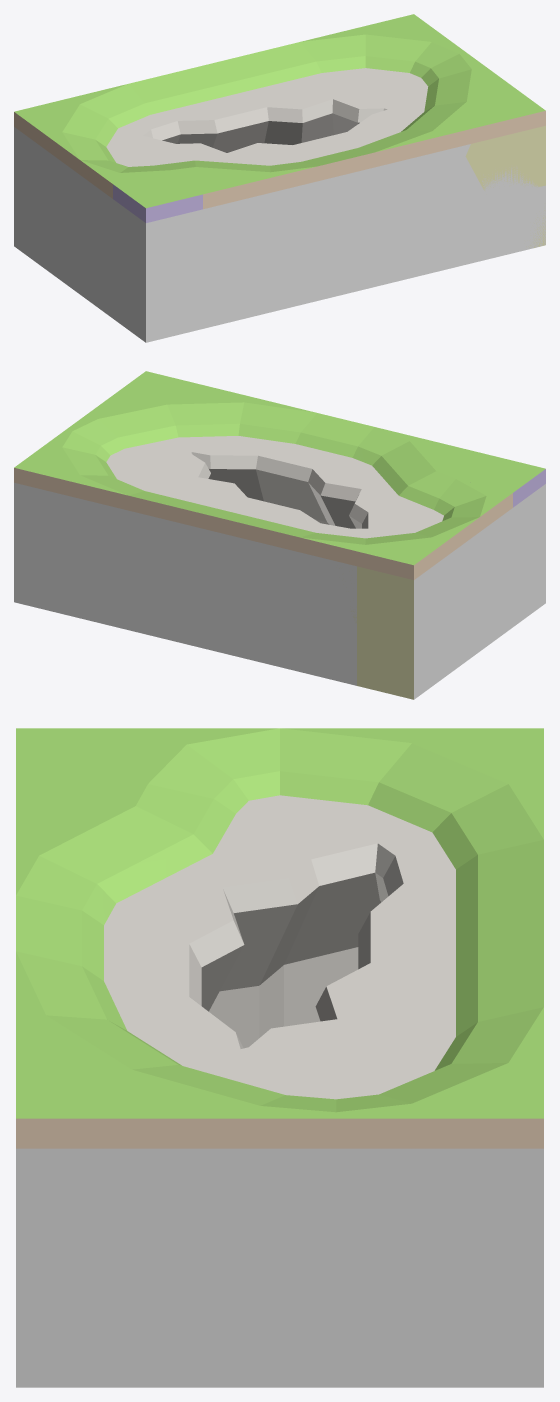
Rendered from Crack_Small.glb.
3 renders of one model, top to bottom at view 1: azimuth 30°, elevation 25°; view 2: azimuth 150°, elevation 25°; view 3: azimuth 270°, elevation 25°, orthographic. The views are drawn at different scales.
Parts seen in each view (by area): view 1: Cracked_Curve_Inner_4x4_1_Top (×2), Cracked_Curve_Inner_4x4_1_Mid, Grass_Carpet_Curve_Inner_2x2 (×2), Cracked_Curve_Inner_3x3_1_Mid, Grass_Carpet_Curve_Inner_3x3, Cracked_Curve_Inner_3x3_1_Top, Grass_Carpet_Straight_1x1 (×4), Grass_Carpet_Esse_2x2, Cracked_Straight_2x2_3_Top, Grass_Carpet_Center_1x1, Grass_Carpet_Curve_Inner_1x1; view 2: Cracked_Curve_Inner_4x4_1_Top (×2), Cracked_Curve_Inner_4x4_1_Mid (×2), Grass_Carpet_Curve_Inner_3x3, Grass_Carpet_Curve_Inner_2x2 (×2), Cracked_Straight_2x2_3_Top, Cracked_Straight_2x2_3_Mid, Grass_Carpet_Straight_1x1 (×4), Grass_Carpet_Esse_2x2, Cracked_Curve_Inner_3x3_1_Top, Grass_Carpet_Curve_Inner_1x1, Grass_Carpet_Center_1x1; view 3: Cracked_Curve_Inner_4x4_1_Top (×2), Cracked_Curve_Inner_3x3_1_Mid, Grass_Carpet_Curve_Inner_2x2 (×2), Grass_Carpet_Curve_Inner_3x3, Cracked_Curve_Inner_4x4_1_Mid (×2), Cracked_Curve_Inner_3x3_1_Top, Grass_Carpet_Esse_2x2, Grass_Carpet_Straight_1x1 (×4), Grass_Carpet_Curve_Inner_1x1, Cracked_Straight_2x2_3_Top, Grass_Carpet_Center_1x1.
Boxes of the visible parts, x1=… form: Cracked_Curve_Inner_4x4_1_Top (×2): x1=14, y1=68, x2=545, y2=282; Cracked_Curve_Inner_4x4_1_Mid: x1=14, y1=187, x2=374, y2=342; Grass_Carpet_Curve_Inner_2x2 (×2): x1=14, y1=14, x2=459, y2=174; Cracked_Curve_Inner_3x3_1_Mid: x1=374, y1=185, x2=545, y2=286; Grass_Carpet_Curve_Inner_3x3: x1=358, y1=39, x2=545, y2=167; Cracked_Curve_Inner_3x3_1_Top: x1=331, y1=109, x2=539, y2=226; Grass_Carpet_Straight_1x1 (×4): x1=128, y1=42, x2=374, y2=181; Grass_Carpet_Esse_2x2: x1=154, y1=160, x2=317, y2=209; Cracked_Straight_2x2_3_Top: x1=110, y1=101, x2=231, y2=151; Grass_Carpet_Center_1x1: x1=113, y1=170, x2=202, y2=222; Grass_Carpet_Curve_Inner_1x1: x1=80, y1=160, x2=169, y2=198; Cracked_Curve_Inner_4x4_1_Top (×2): x1=14, y1=437, x2=545, y2=639; Cracked_Curve_Inner_4x4_1_Mid (×2): x1=14, y1=519, x2=545, y2=699; Grass_Carpet_Curve_Inner_3x3: x1=48, y1=371, x2=316, y2=455; Grass_Carpet_Curve_Inner_2x2 (×2): x1=14, y1=431, x2=479, y2=579; Cracked_Straight_2x2_3_Top: x1=242, y1=507, x2=399, y2=625; Cracked_Straight_2x2_3_Mid: x1=242, y1=598, x2=356, y2=685; Grass_Carpet_Straight_1x1 (×4): x1=128, y1=413, x2=373, y2=552; Grass_Carpet_Esse_2x2: x1=352, y1=427, x2=488, y2=509; Cracked_Curve_Inner_3x3_1_Top: x1=191, y1=436, x2=294, y2=505; Grass_Carpet_Curve_Inner_1x1: x1=434, y1=479, x2=512, y2=531; Grass_Carpet_Center_1x1: x1=456, y1=455, x2=545, y2=507; Cracked_Curve_Inner_4x4_1_Top (×2): x1=16, y1=795, x2=543, y2=1267; Cracked_Curve_Inner_3x3_1_Mid: x1=16, y1=1268, x2=411, y2=1387; Grass_Carpet_Curve_Inner_2x2 (×2): x1=280, y1=728, x2=543, y2=1148; Grass_Carpet_Curve_Inner_3x3: x1=16, y1=951, x2=411, y2=1148; Cracked_Curve_Inner_4x4_1_Mid (×2): x1=16, y1=947, x2=543, y2=1387; Cracked_Curve_Inner_3x3_1_Top: x1=16, y1=981, x2=411, y2=1266; Grass_Carpet_Esse_2x2: x1=16, y1=784, x2=235, y2=924; Grass_Carpet_Straight_1x1 (×4): x1=16, y1=840, x2=543, y2=1036; Grass_Carpet_Curve_Inner_1x1: x1=148, y1=728, x2=279, y2=813; Cracked_Straight_2x2_3_Top: x1=358, y1=814, x2=455, y2=947; Grass_Carpet_Center_1x1: x1=16, y1=728, x2=147, y2=783.
Bounding box in the file's own units: 700 × 225 × 400.
